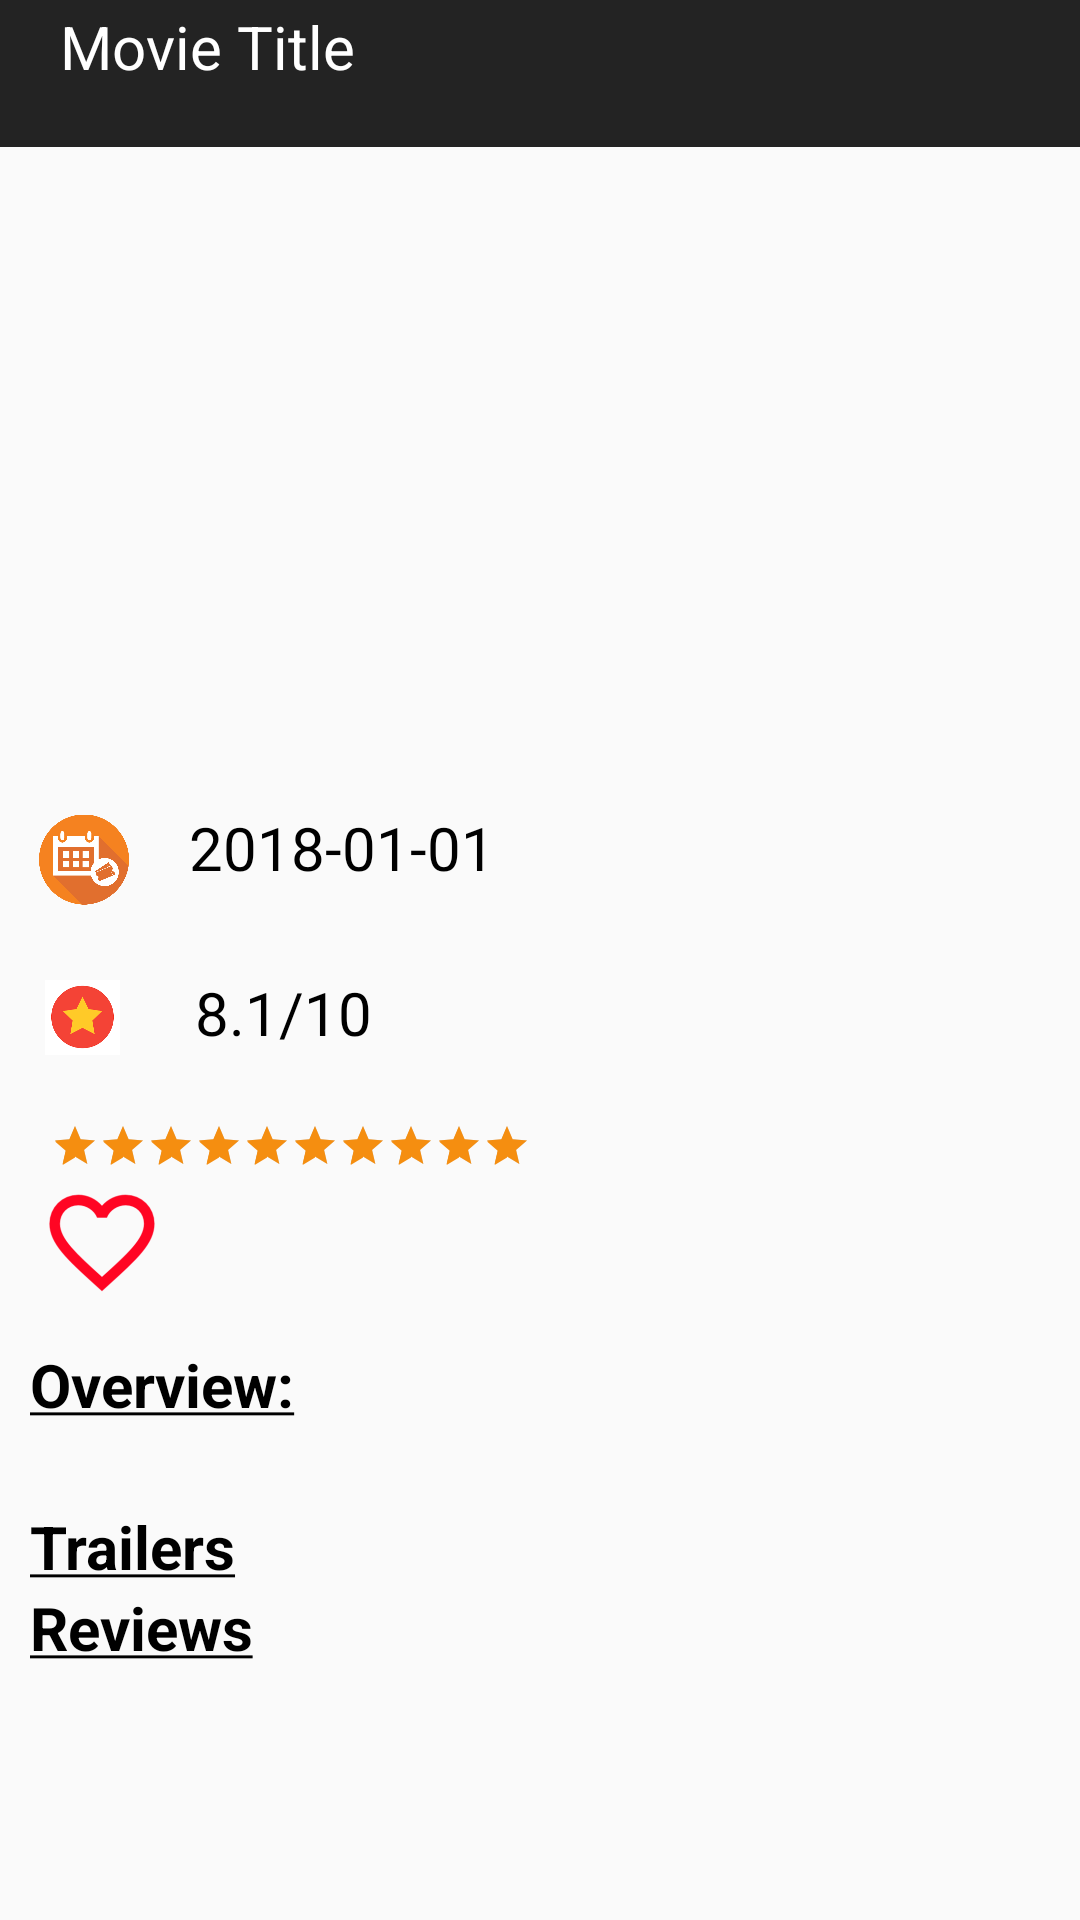

Icon click points for this 1080 x 1920 phone screenshot, format [x,y]:
date: [84,860]
star: [82,1017]
unfav: [102,1242]
